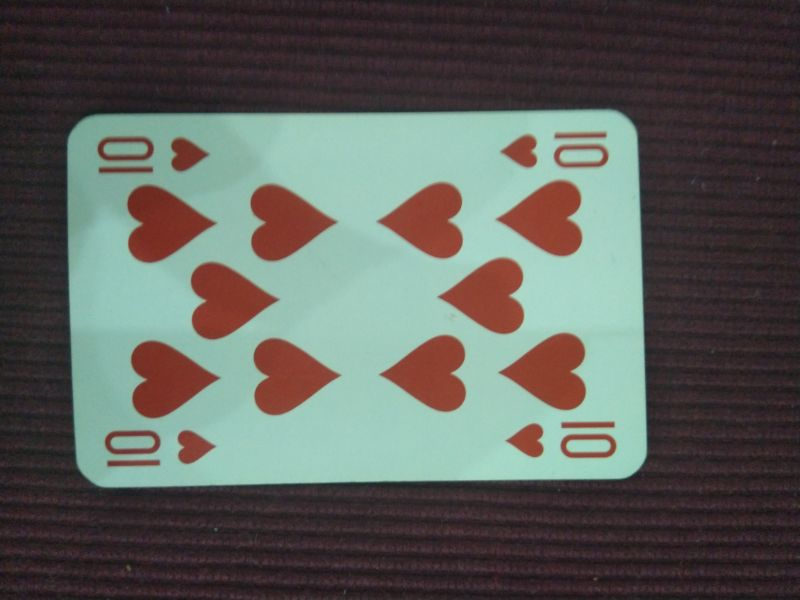Th: (92, 128, 217, 181), (97, 421, 223, 473), (499, 417, 623, 467), (496, 122, 614, 172)
